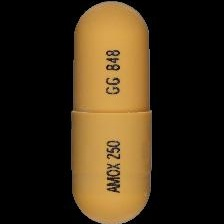0781-2020: (0, 0, 224, 224)
